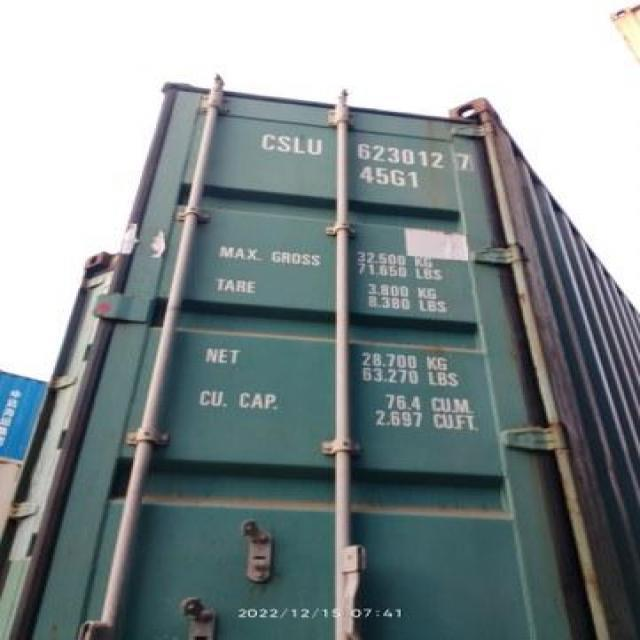container_number_h: (243, 114, 522, 211)
